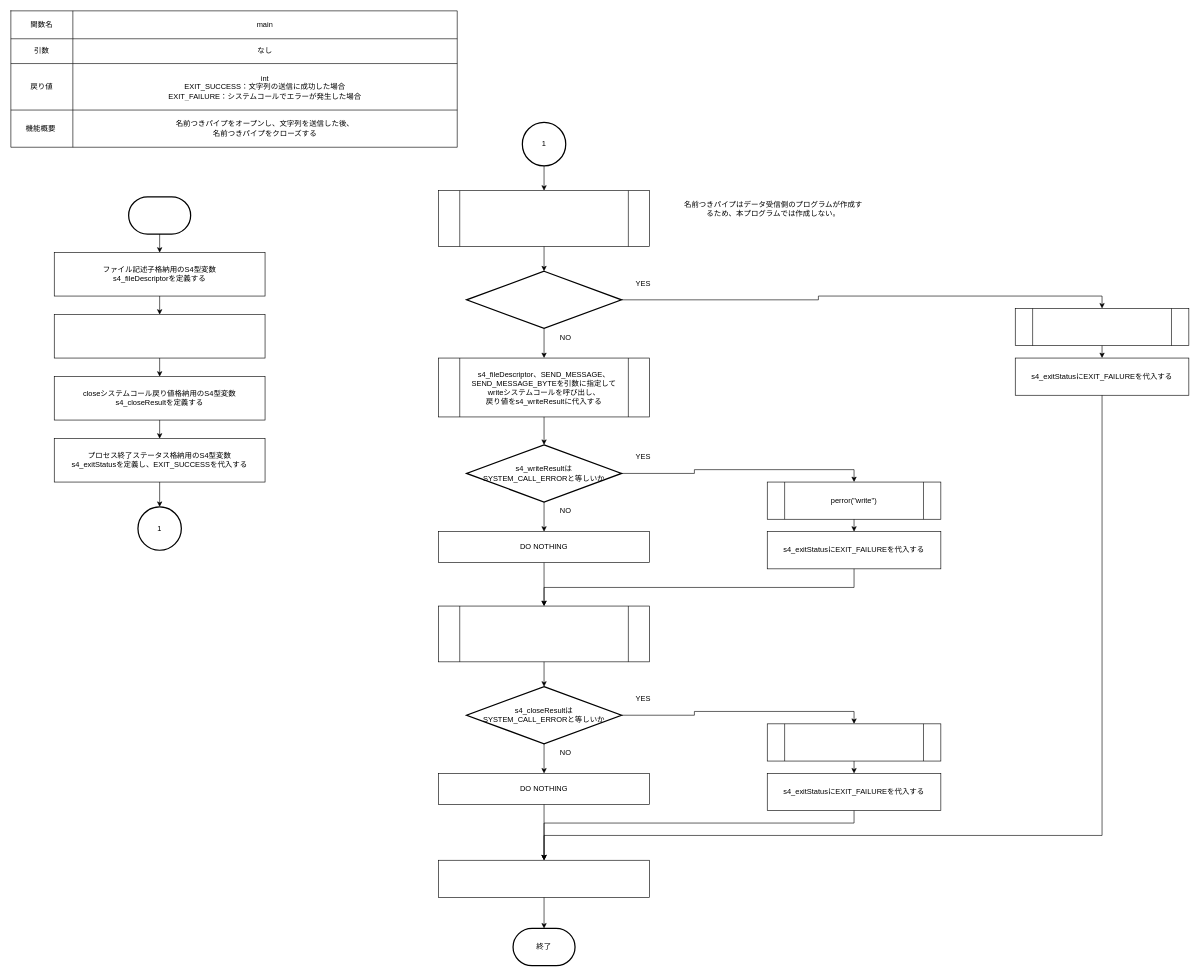
Image size: 1200x977. Some labels were removed from this diagram. The shapes that lost their labels are listed below. From the top down, each one's box as (x1, y1, x2, y2) in pixels, then its label:
(128, 196, 191, 234): 開始
(438, 190, 649, 246): FIFO_PATH、O_WRONLYを引数に指定して openシステムコールを呼び出し、 戻り値をs4_fileDescriptorに代入する
(466, 270, 622, 329): s4_fileDescriptorは SYSTEM_CALL_ERRORと等しいか
(54, 314, 265, 358): writeシステムコール戻り値格納用のS4型変数 s4_writeResultを定義する
(1015, 308, 1189, 346): perror("open")
(438, 605, 649, 662): s4_fileDescriptor を引数に指定して closeシステムコールを呼び出し、 戻り値をs4_closeResultに代入する
(767, 723, 941, 761): perror("close")
(438, 860, 649, 897): s4_exitStatusを返す
